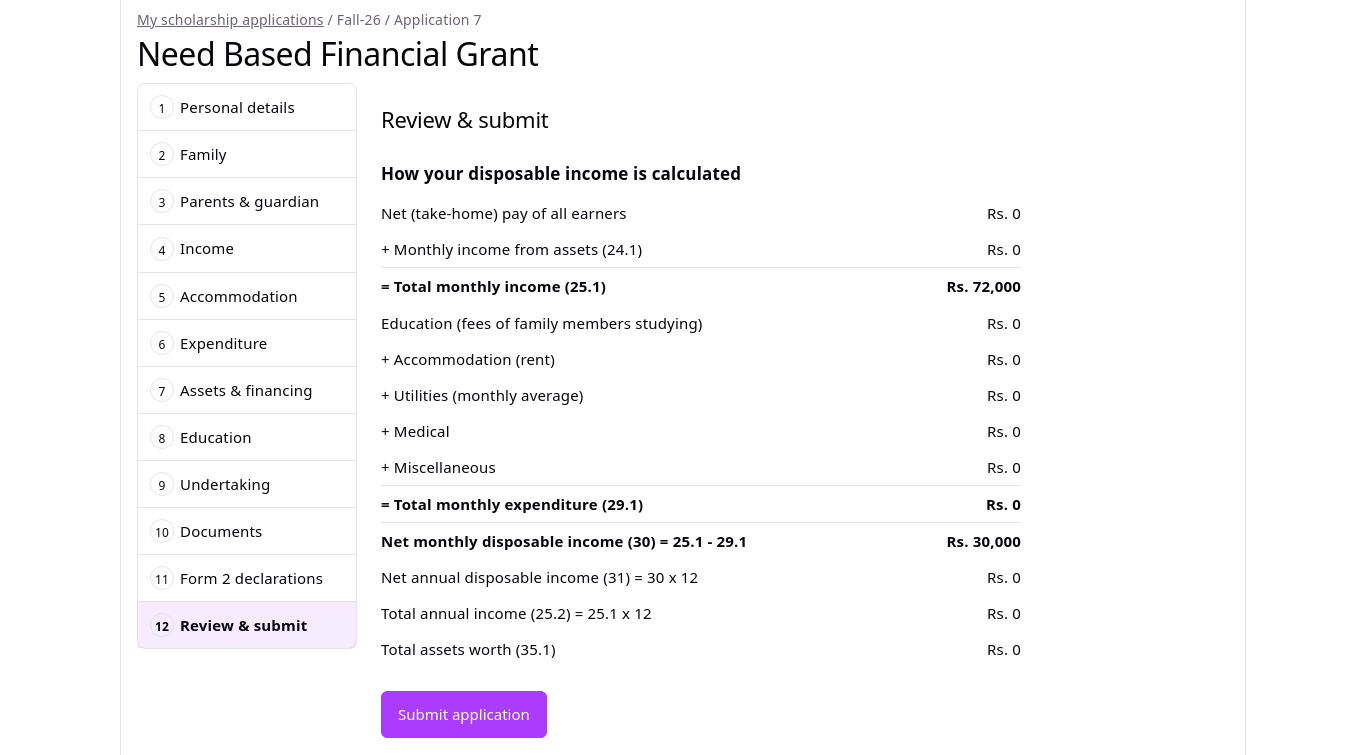
Test: review submits after confirmation when ready
Expected: the text "Rs. 72,000" is shown, [915,268,1021,304]
Step 1. Click the button "Submit application" → coordinates (464, 715), box [381,692,547,738]
(page scrolled)
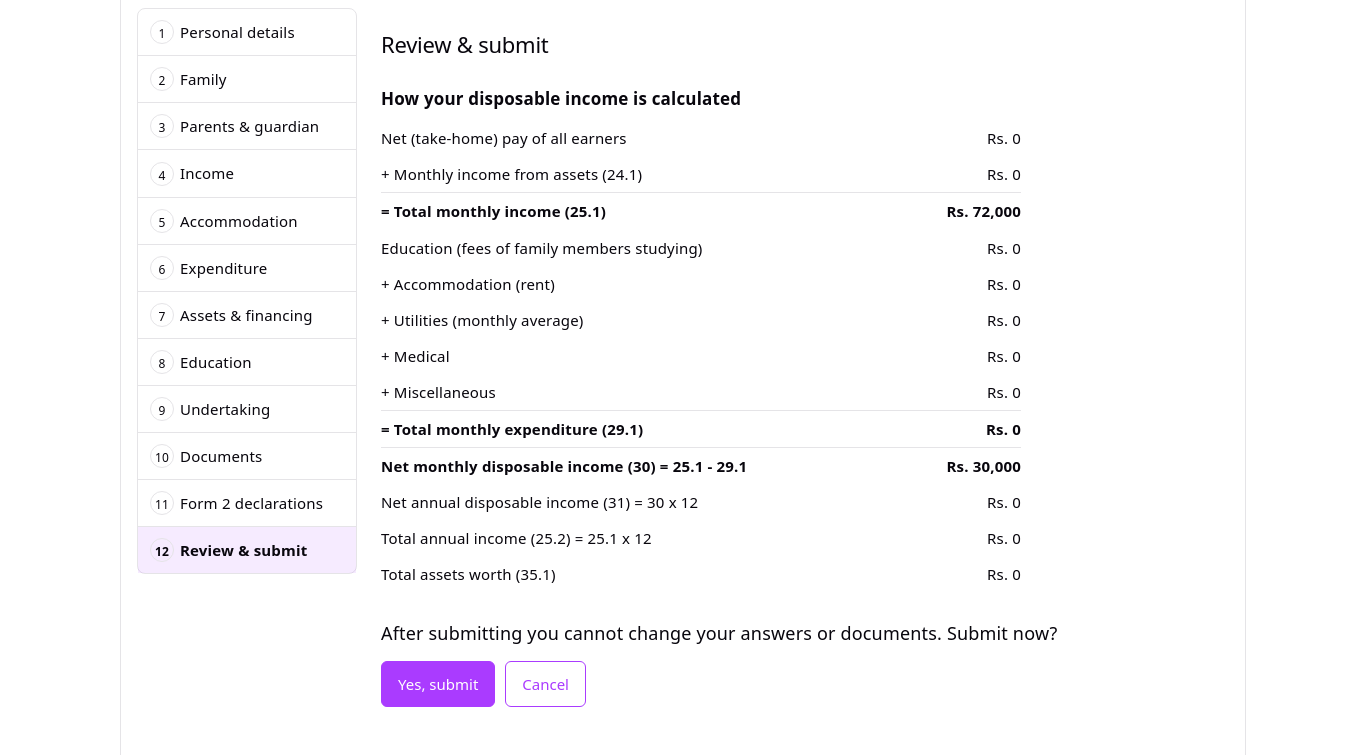
Step 2. Click the button "Yes, submit" → coordinates (438, 684), box [381,660,495,707]
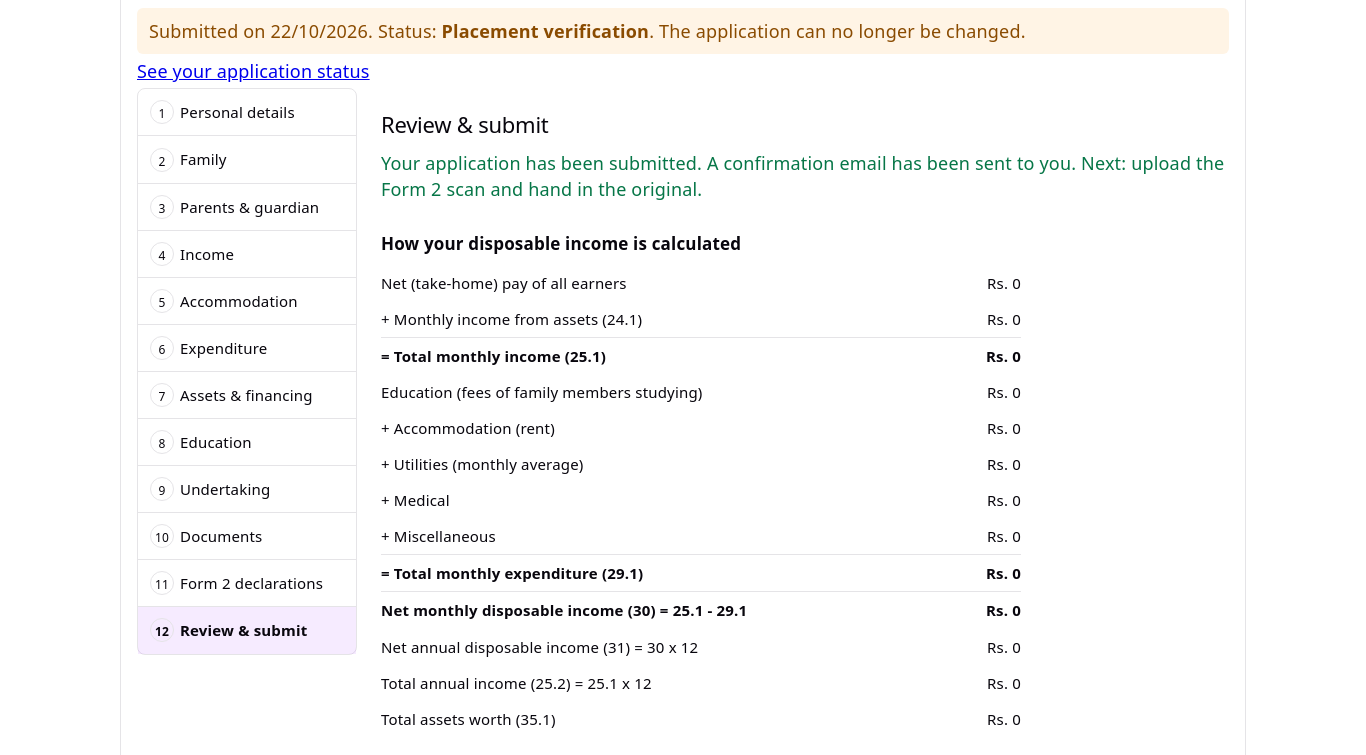
Now the message shows "has been submitted", box [381,151,1224,201]
Now the text "can no longer be changed" is shown, box [649,19,1026,43]
